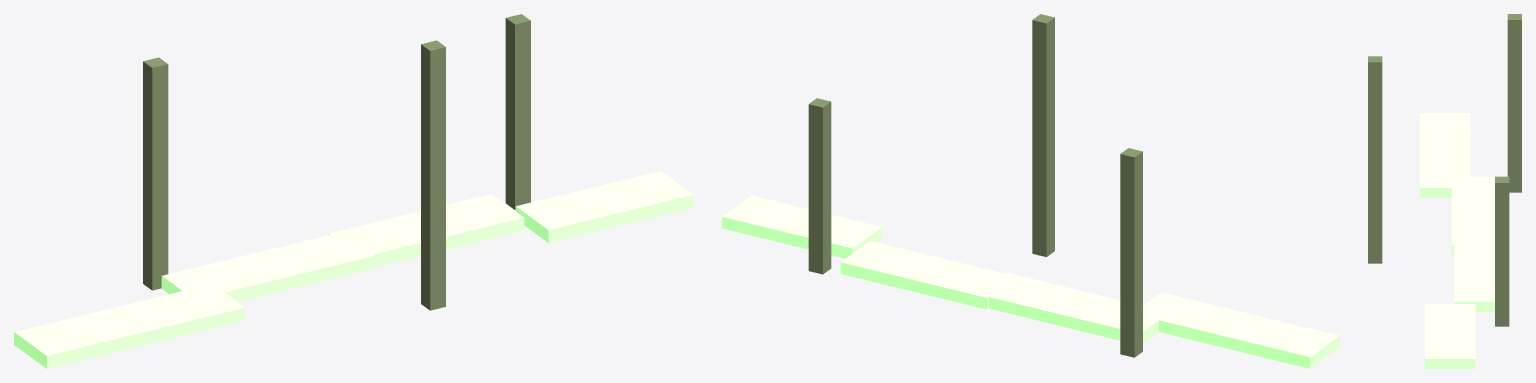
The model's file is slime_tell.glb.
The picture shows the model from 3 angles, left to right: view 1: azimuth 30°, elevation 25°; view 2: azimuth 150°, elevation 25°; view 3: azimuth 270°, elevation 25°; orthographic projection. The views are drawn at different scales.
Parts seen in each view (by area): view 1: slime_tell; view 2: slime_tell; view 3: slime_tell.
Boxes of the visible parts, <box> form: slime_tell: <box>14,14,693,368</box>; slime_tell: <box>722,14,1339,368</box>; slime_tell: <box>1368,14,1521,368</box>.
Bounding box in the file's own units: 1.83 × 0.7 × 0.485.
